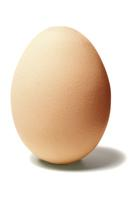egg: (10, 29, 113, 168)
